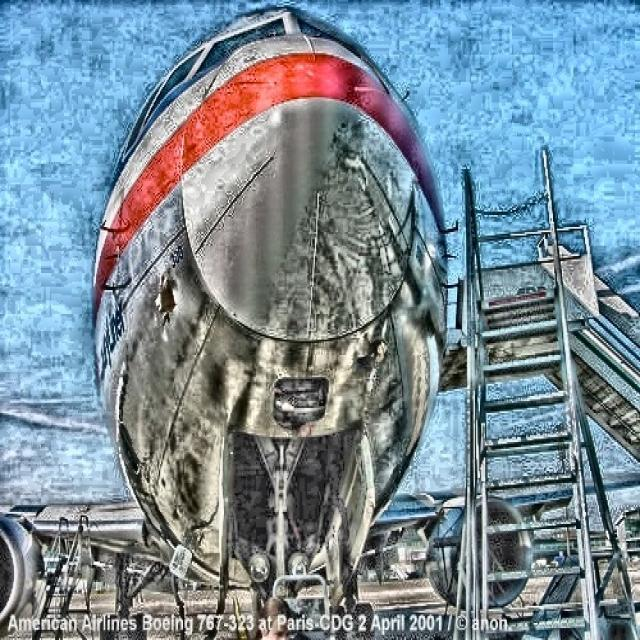dent: (159, 274, 181, 317)
